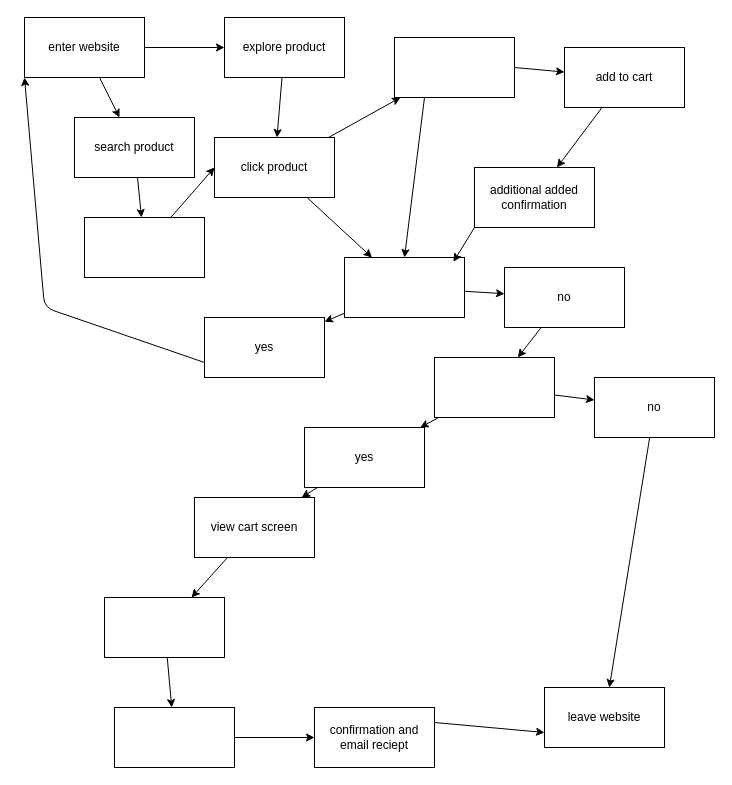
This 732x785 diagram has some shape labels left out. Here are the shapes that lost their labels. From the top down, the centre of each, then its label:
At point 454,67: "go to external website".
At point 144,247: "provide input".
At point 404,287: "continue shopping".
At point 494,387: "checkout?".
At point 164,627: "view payment screen".
At point 174,737: "provide payment".
